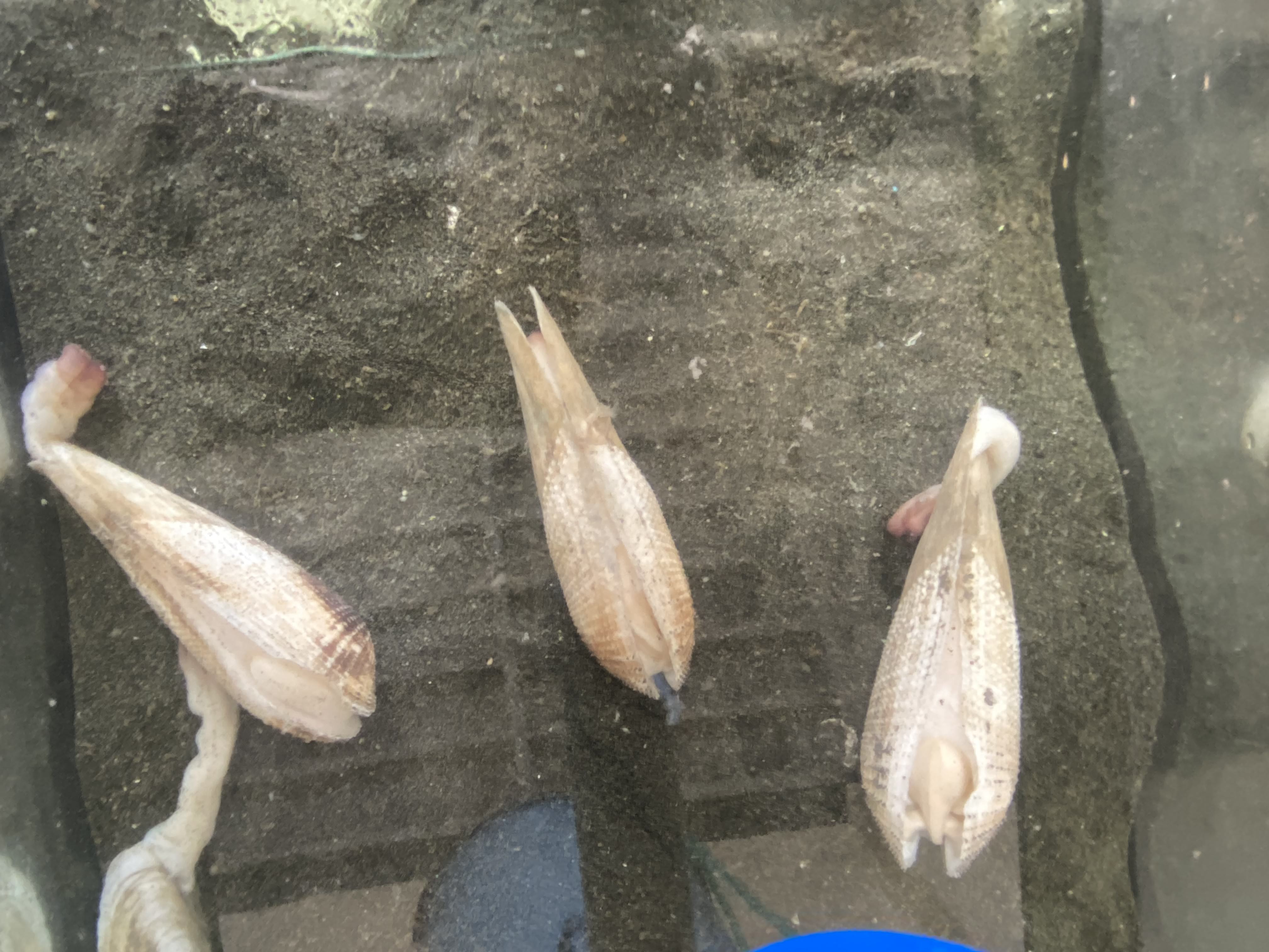At risk: (21, 344, 375, 952), (496, 289, 694, 722), (860, 401, 1020, 876)
